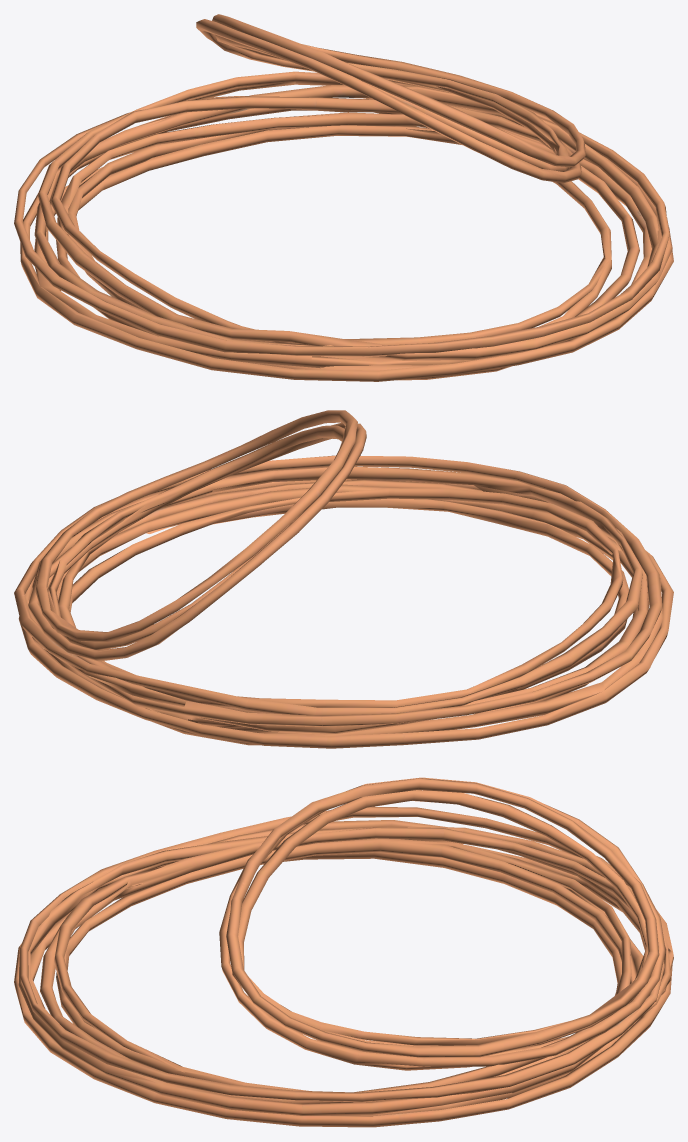
File: cu-wire.glb
3 renders of one model, top to bottom at view 1: azimuth 30°, elevation 25°; view 2: azimuth 150°, elevation 25°; view 3: azimuth 270°, elevation 25°, orthographic.
Size of the model in its own units: 0.9502 by 0.3169 by 0.9434.
1 material, 1 textured.
